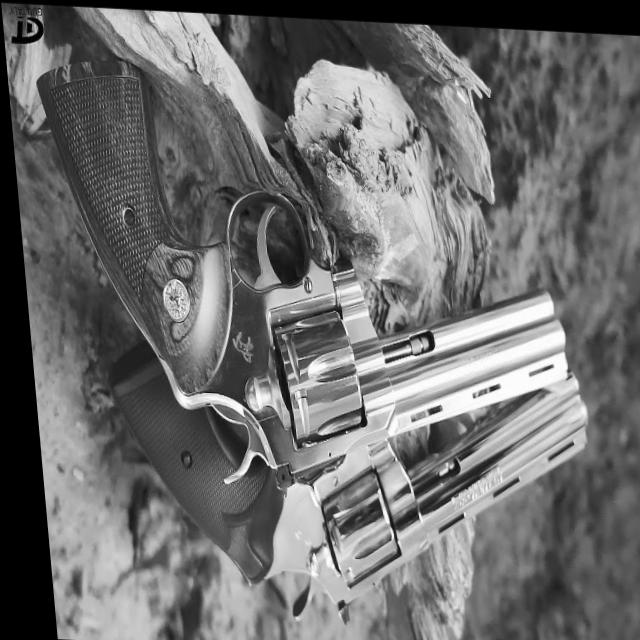handgun: (25, 53, 564, 457), (90, 376, 597, 640)
